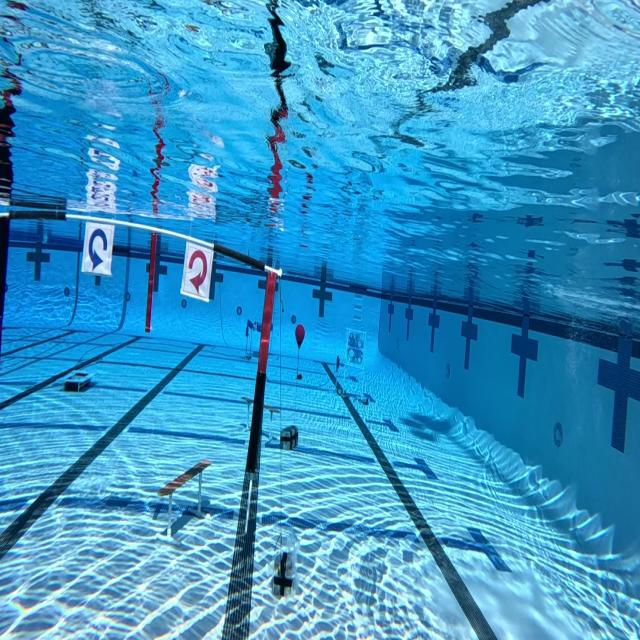blue_side: (78, 214, 116, 282)
red_side: (178, 231, 216, 305)
